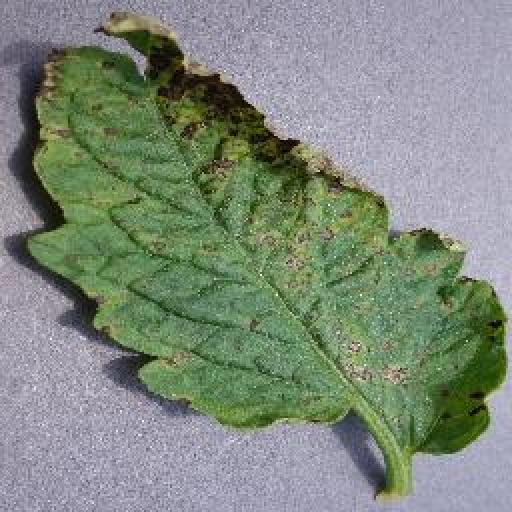Septoria: (19, 13, 508, 455)
